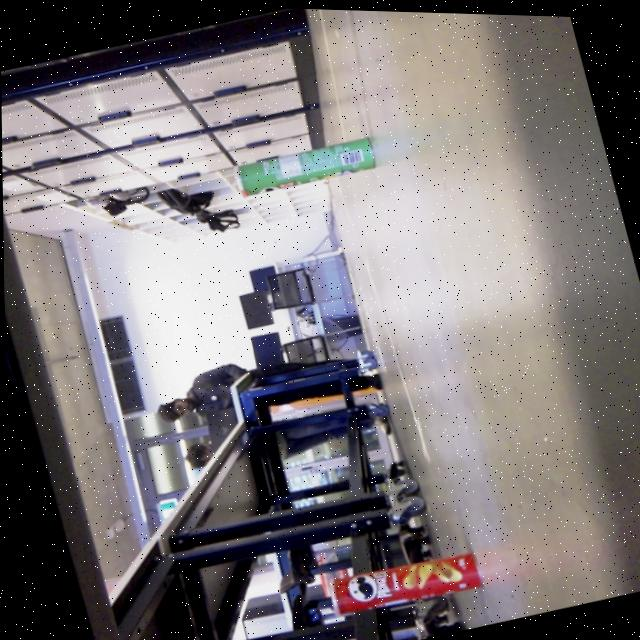greenpringles: (212, 103, 398, 207)
redpringles: (313, 526, 487, 626)
